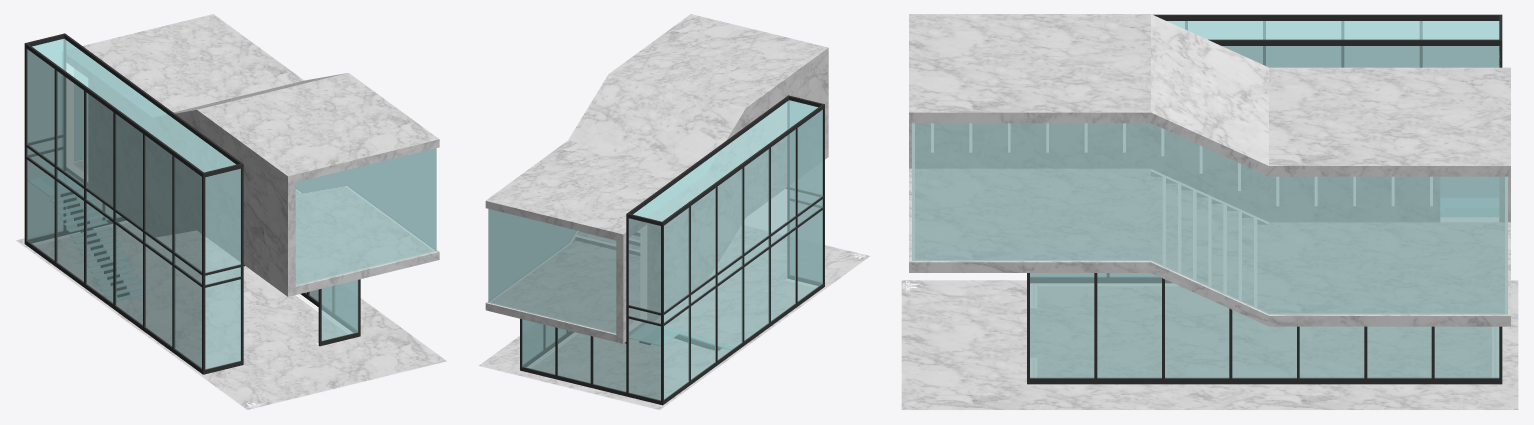
The model's file is Dhingia Builds 03 white 2x1.glb.
3 views of the same model, side by side, from view 1: azimuth 30°, elevation 25°; view 2: azimuth 150°, elevation 25°; view 3: azimuth 270°, elevation 25° (orthographic). The views are drawn at different scales.
Parts seen in each view (by area): view 1: Difference, Mesh_2, Mesh_0, Mesh_1, OuterShell, Stair, Mesh_39, Mesh_40; view 2: Difference, Mesh_2, Mesh_0, Mesh_1, OuterShell, Mesh_39; view 3: Difference, Mesh_1, Mesh_0, Mesh_2, OuterShell, Mesh_39.
Boxes of the visible parts, x1,y1,x2,y2 form: Difference: (66,14,439,296); Mesh_2: (27,38,358,369); Mesh_0: (14,220,448,410); Mesh_1: (74,69,436,285); OuterShell: (24,33,360,374); Stair: (50,192,147,301); Mesh_39: (28,171,87,196); Mesh_40: (61,192,129,297); Difference: (485,14,828,343); Mesh_2: (522,100,822,400); Mesh_0: (477,225,871,410); Mesh_1: (488,209,616,333); OuterShell: (520,95,824,405); Mesh_39: (629,323,681,345); Difference: (909,14,1510,326); Mesh_1: (912,123,1507,314); Mesh_0: (900,279,1519,410); Mesh_2: (1030,21,1500,378); OuterShell: (1027,14,1502,384); Mesh_39: (1440,198,1498,216).
Size of what is drawn, in the model's own units: 16 by 16.79 by 32.
5 materials, 1 textured.
